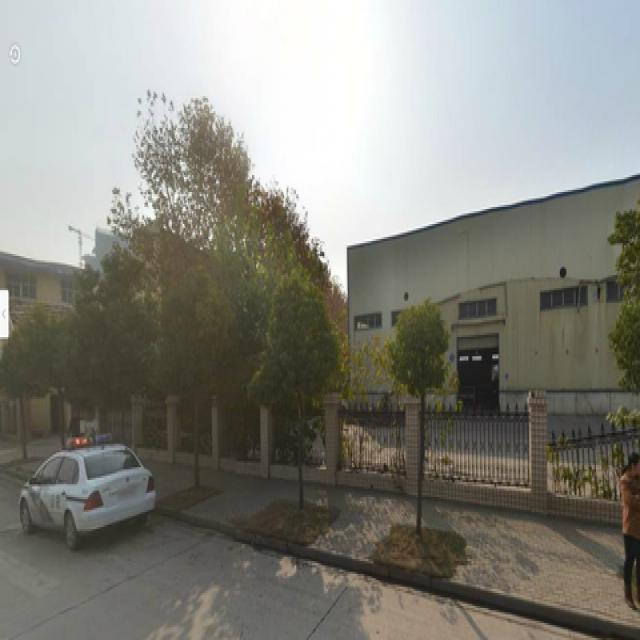cinn: (260, 282, 327, 506), (396, 305, 451, 546)
